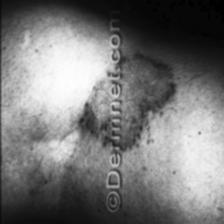Toxin: (121, 54, 173, 152), (78, 70, 108, 152)
